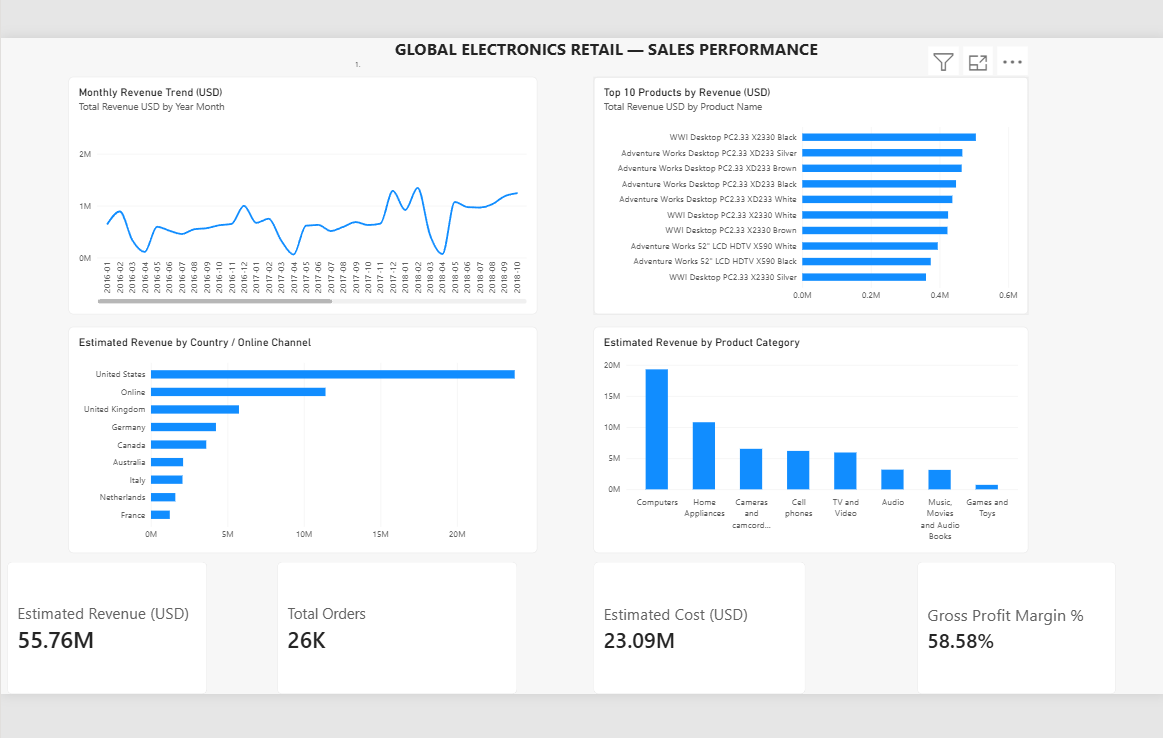

Layout of this report page (visuals, bound fields, positions):
{"tool":"powerbi","page":{"name":"Sales Performance","canvas":[1920,1080],"ordinal":1},"visuals":[{"type":"lineChart","title":"Monthly Revenue Trend (USD)","fields":{"Category":["Sales.Year Month"],"Y":["Sales.Total Revenue USD"]},"box":[111.1,63.8,771.9,391.1],"z":0},{"type":"clusteredColumnChart","title":"Estimated Revenue by Product Category","fields":{"Category":["Products.Category"],"Y":["Sales.Total Revenue USD"]},"box":[975.6,475.5,716.3,372.6],"z":1},{"type":"clusteredBarChart","title":"Estimated Revenue by Country / Online Channel","fields":{"Category":["Stores.Country"],"Y":["Sales.Total Revenue USD"]},"box":[111.1,475.5,771.9,372.6],"z":2},{"type":"clusteredBarChart","title":"Top 10 Products by Revenue (USD)","fields":{"Category":["Products.Product Name"],"Y":["Sales.Total Revenue USD"]},"box":[975.6,63.8,716.3,391.1],"z":3},{"type":"cardVisual","fields":{"Data":["Sales.Total Revenue USD"]},"box":[10.3,862.4,329.3,218.2],"z":4},{"type":"cardVisual","fields":{"Data":["Sales.Total Orders"]},"box":[454.9,862.4,395.2,218.2],"z":5},{"type":"cardVisual","fields":{"Data":["Sales.Total Cost USD"]},"box":[975.6,862.4,349.9,218.2],"z":6},{"type":"cardVisual","fields":{"Data":["Sales.Gross Profit Margin %"]},"box":[1508.8,862.4,327.3,218.2],"z":7},{"type":"textbox","box":[582.5,0,773.9,142],"z":9}]}

Visuals, with their boxes on the page's 1920x1080 design canvas (x1, y1, x2, y2). These are canvas units, not pixel positions in the 1163x738 screenshot, which may show the page scaled, cropped or inside an application window:
"Monthly Revenue Trend (USD)" lineChart: box(111, 64, 883, 455)
"Estimated Revenue by Product Category" clusteredColumnChart: box(976, 476, 1692, 848)
"Estimated Revenue by Country / Online Channel" clusteredBarChart: box(111, 476, 883, 848)
"Top 10 Products by Revenue (USD)" clusteredBarChart: box(976, 64, 1692, 455)
cardVisual - Sales.Total Revenue USD: box(10, 862, 340, 1081)
cardVisual - Sales.Total Orders: box(455, 862, 850, 1081)
cardVisual - Sales.Total Cost USD: box(976, 862, 1326, 1081)
cardVisual - Sales.Gross Profit Margin %: box(1509, 862, 1836, 1081)
textbox: box(582, 0, 1356, 142)
